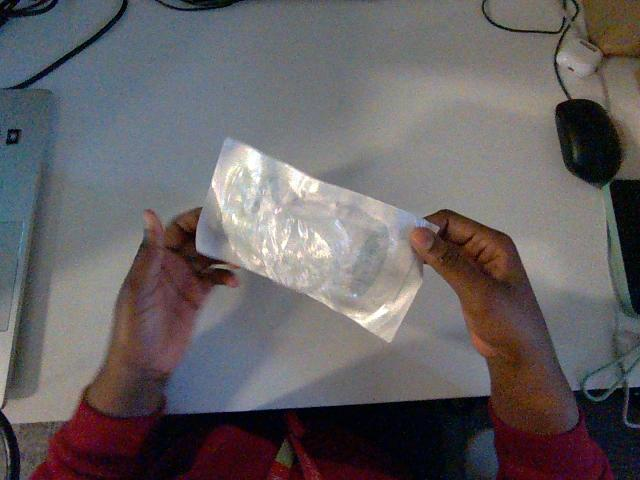gallipot: (196, 139, 436, 341)
